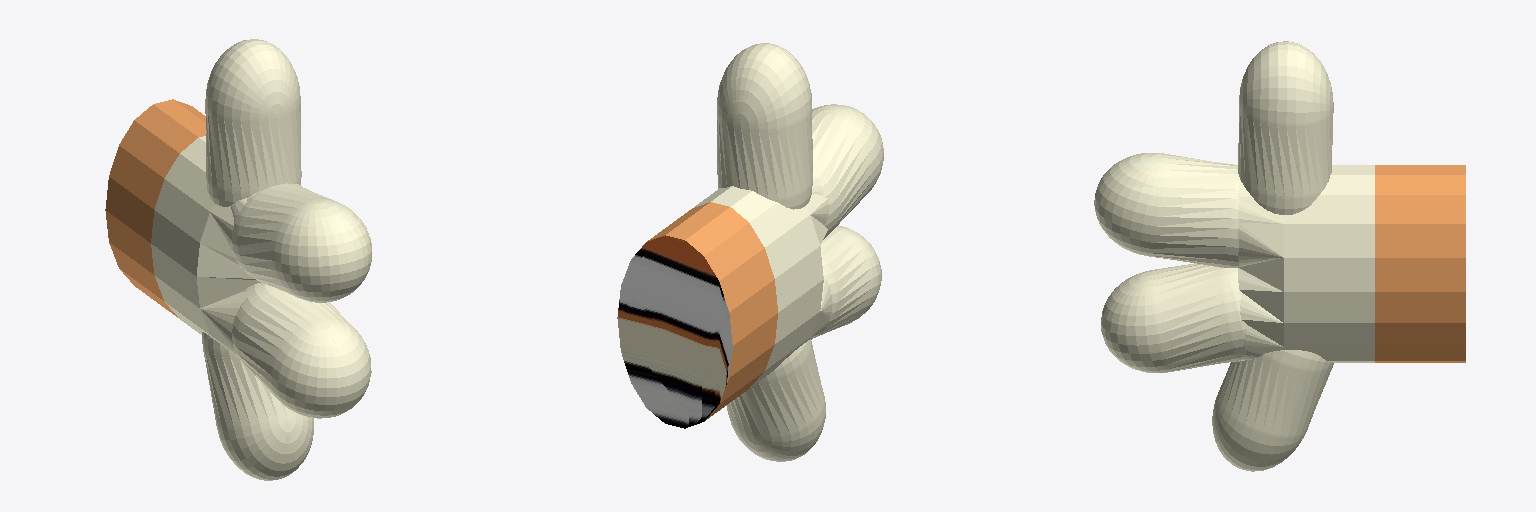
The picture shows the model from 3 angles: view 1: azimuth 30°, elevation 25°; view 2: azimuth 150°, elevation 25°; view 3: azimuth 270°, elevation 25°; orthographic projection.
Visible parts, largest first — view 1: Cylinder019; view 2: Cylinder019; view 3: Cylinder019.
Boxes of the visible parts, box(x1,y1,x2,y2) form: Cylinder019: box(105, 39, 371, 480); Cylinder019: box(617, 43, 883, 461); Cylinder019: box(1094, 41, 1465, 471).
Bounding box in the file's own units: 5.69 × 19.94 × 15.86.
1 materials, 1 textured.